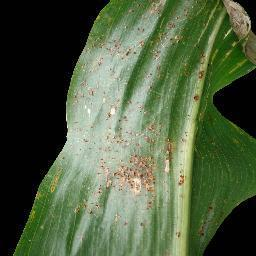Corn_Common_Rust: (79, 0, 191, 63), (99, 130, 159, 205), (212, 0, 256, 73), (105, 96, 169, 129), (64, 63, 101, 107), (58, 119, 98, 151), (198, 202, 218, 242), (159, 132, 176, 173), (38, 171, 62, 196), (102, 64, 121, 95), (195, 46, 207, 80), (71, 200, 99, 214), (179, 126, 189, 157), (177, 168, 190, 189), (144, 70, 157, 90), (192, 92, 205, 104), (172, 228, 183, 241), (139, 218, 151, 229), (56, 153, 69, 163), (112, 211, 121, 224), (123, 220, 132, 228)
